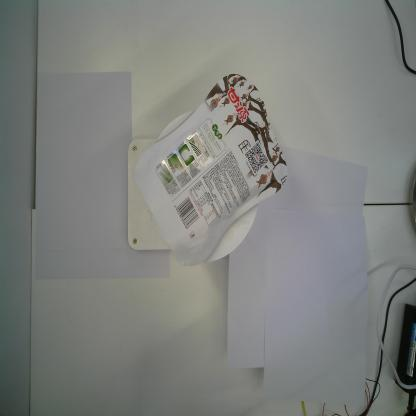Dried Fruit: (134, 73, 288, 267)
